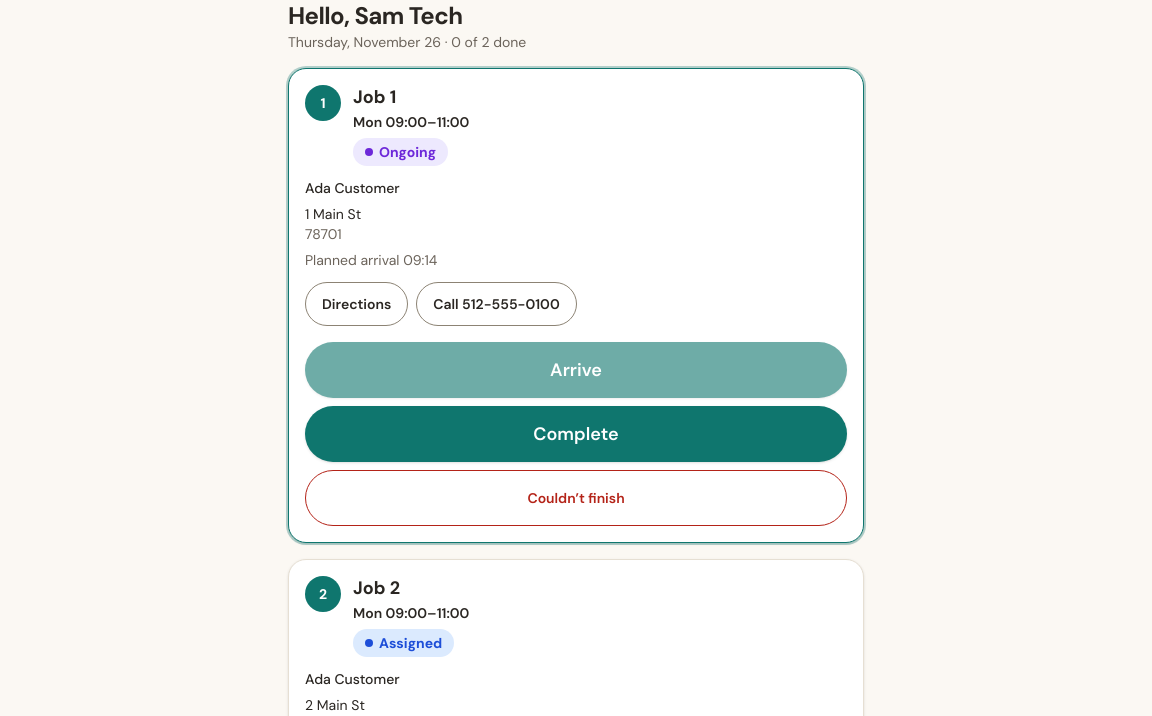
it: TechnicianHome › Couldn’t finish asks for a reason first and sends nothing until it is given
Click the button "Couldn’t finish": (576, 498) [305, 470, 847, 526]
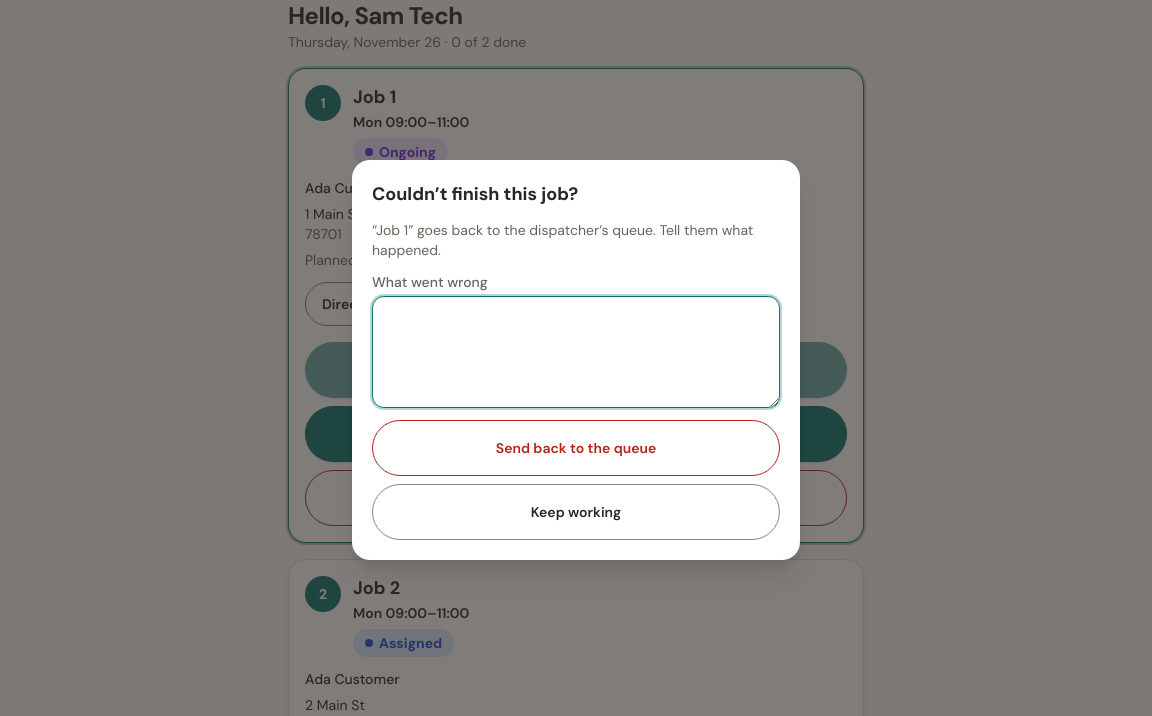
Now the dialog is shown, box [352, 160, 800, 560]
Now the button "Send back to the queue" is shown
Click the button "Send back to the queue": (576, 448) [372, 420, 780, 476]
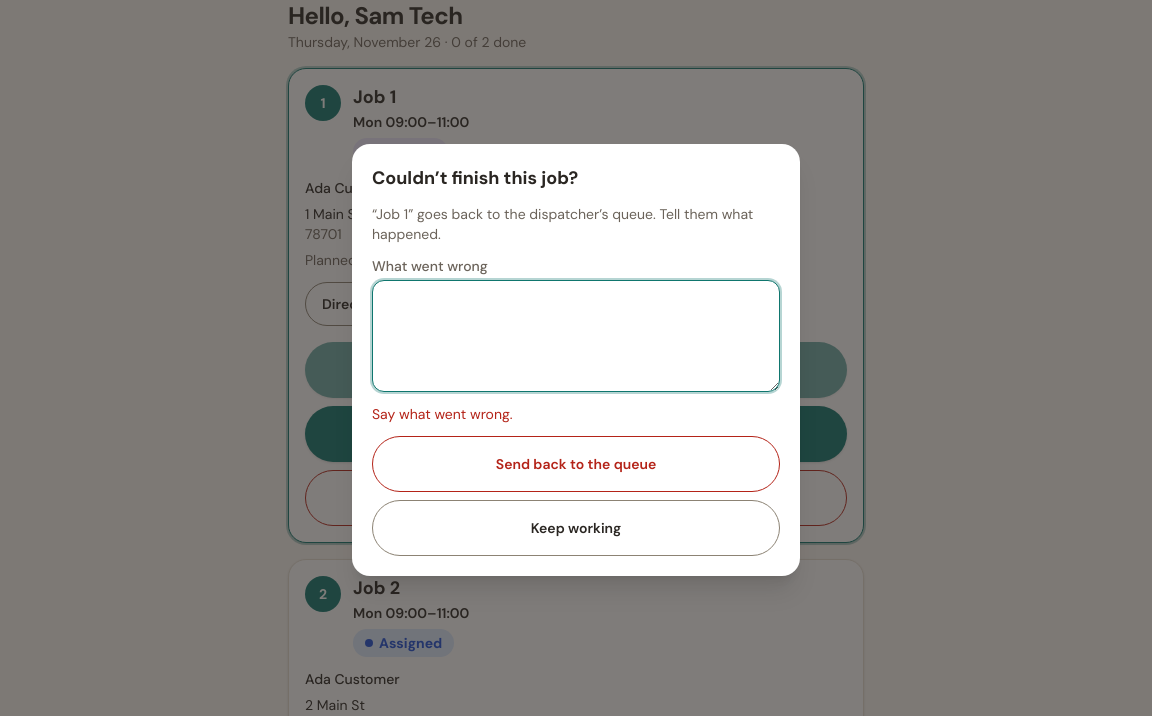
Now the text "Say what went wrong." is shown, box [372, 405, 512, 423]
